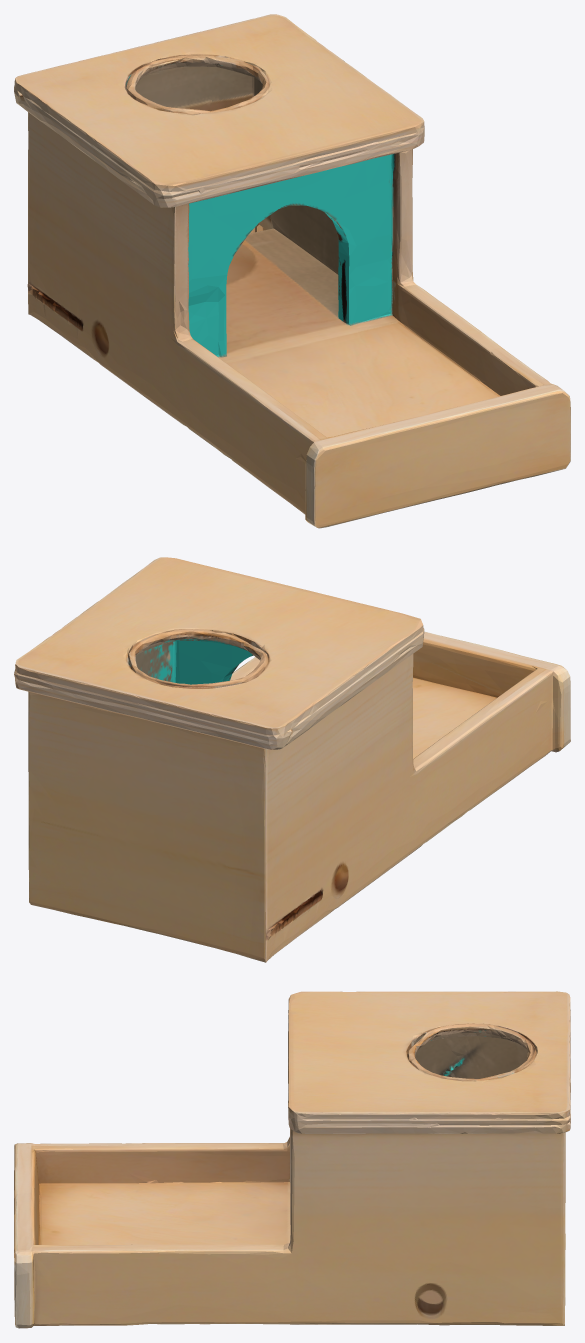
3 renders of one model, top to bottom at view 1: azimuth 30°, elevation 25°; view 2: azimuth 150°, elevation 25°; view 3: azimuth 270°, elevation 25°, orthographic. The views are drawn at different scales.
Parts seen in each view (by area): view 1: texture; view 2: texture; view 3: texture.
Part boxes in pixels (x1,y1,x2,y2): texture: (14, 14, 570, 528); texture: (14, 557, 570, 962); texture: (14, 991, 570, 1328).
Size of the model in its own units: 1.01 by 0.8532 by 1.93.
1 material, 1 textured.
